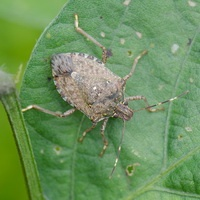insect: (21, 16, 189, 179)
